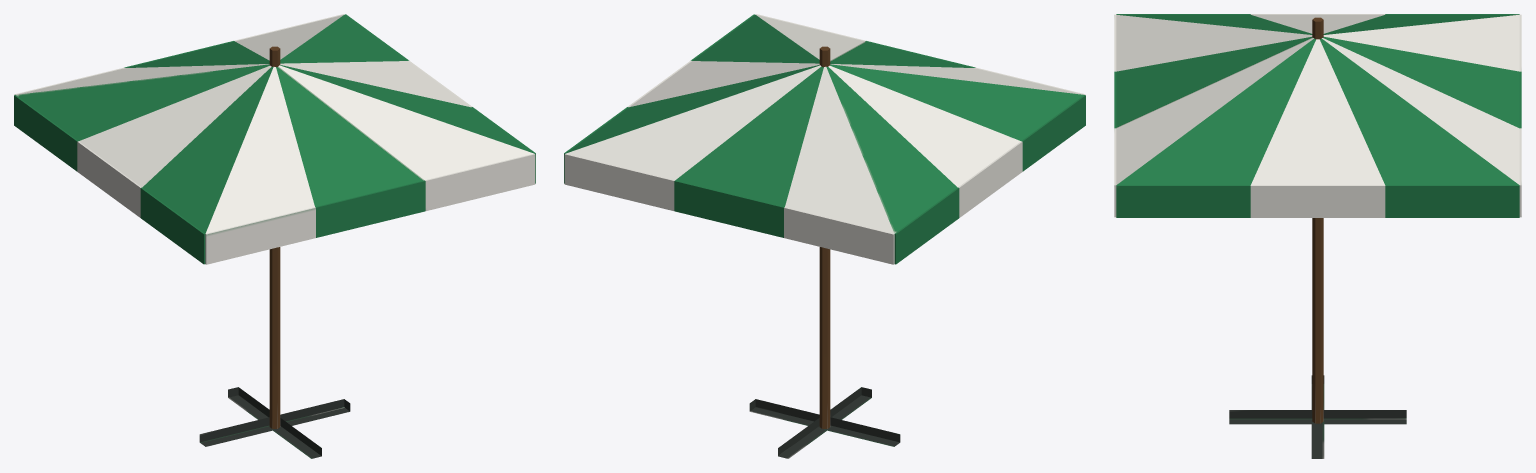
File: slunecnik_ctverec_aaf64960.glb
3 views of the same model, side by side, from view 1: azimuth 30°, elevation 25°; view 2: azimuth 150°, elevation 25°; view 3: azimuth 270°, elevation 25° (orthographic). The views are drawn at different scales.
Parts seen in each view (by area): view 1: dum; view 2: dum; view 3: dum.
Boxes of the visible parts, box(x1,y1,x2,y2) form: dum: box(14, 14, 535, 458); dum: box(564, 14, 1085, 458); dum: box(1114, 14, 1521, 458).
Bounding box in the file's own units: 2.52 × 2.74 × 2.52.
1 material, 1 textured.
